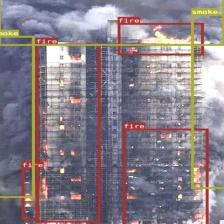fire: (35, 43, 100, 222), (122, 128, 207, 224), (117, 22, 203, 54), (21, 167, 38, 220)
smoke: (0, 0, 224, 45), (191, 14, 224, 188), (0, 35, 34, 197)
